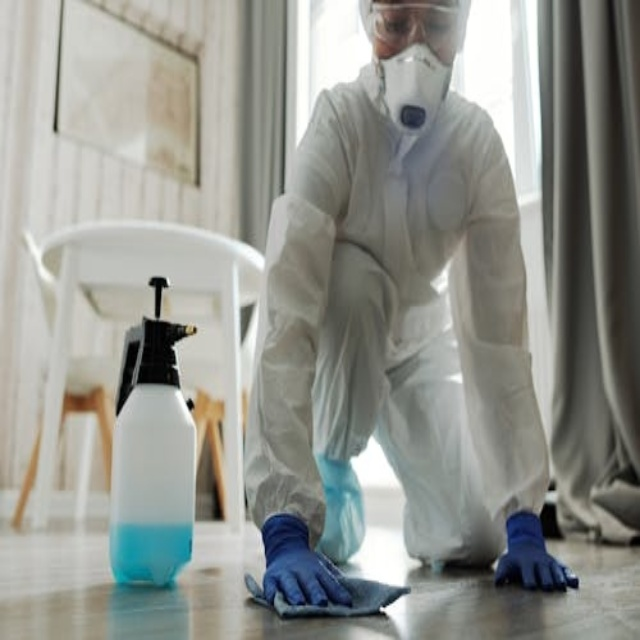Gafas: (370, 3, 458, 45)
Guantes: (260, 514, 356, 608), (494, 512, 579, 591)
Mascara: (375, 33, 455, 135)
